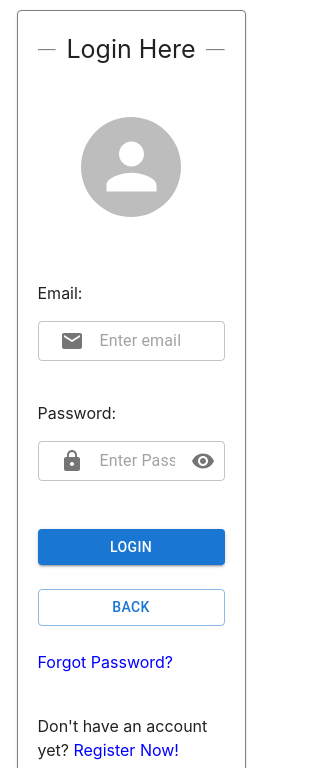
Test case: LoginStudentStaff component (Front-end Testing) › displays an error message when the password is not entered
Click the button "Login" at (131, 547), box [38,528,224,565]
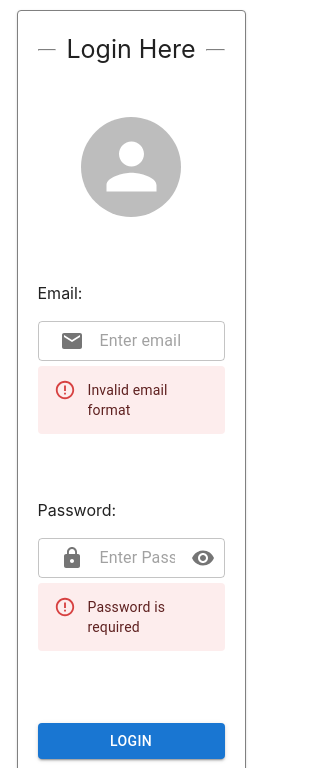
Check: the text "Password is required" is shown, box [88,598,165,634]
